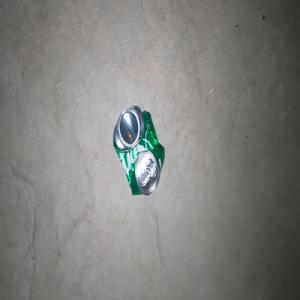SodaCan: (113, 104, 164, 195)
